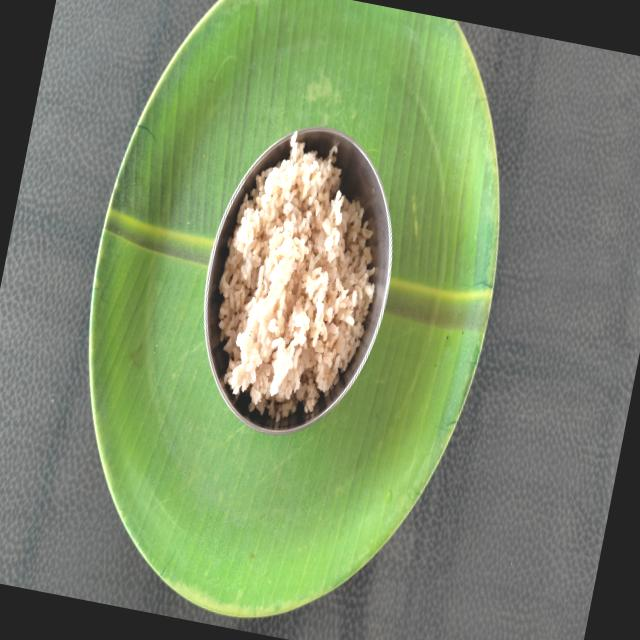brown-rice: (219, 136, 375, 422)
